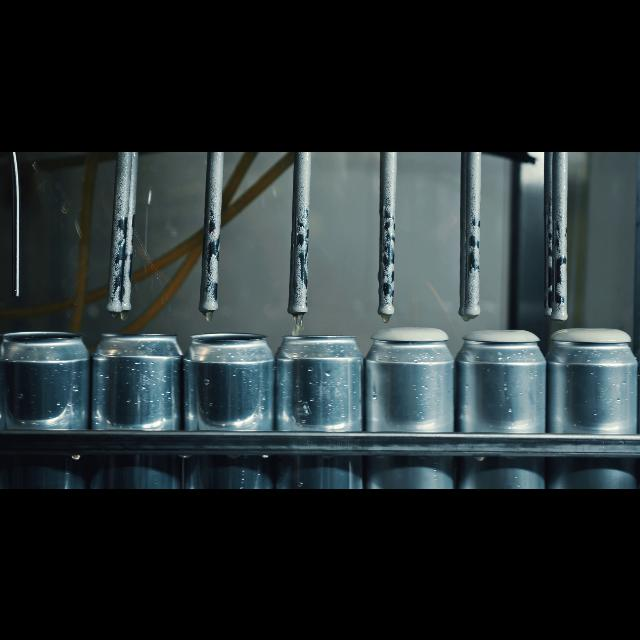empty: (94, 322, 178, 488), (5, 322, 86, 488), (190, 322, 268, 488), (280, 330, 358, 488)
full: (550, 322, 640, 488), (368, 322, 454, 488), (459, 316, 541, 488)
